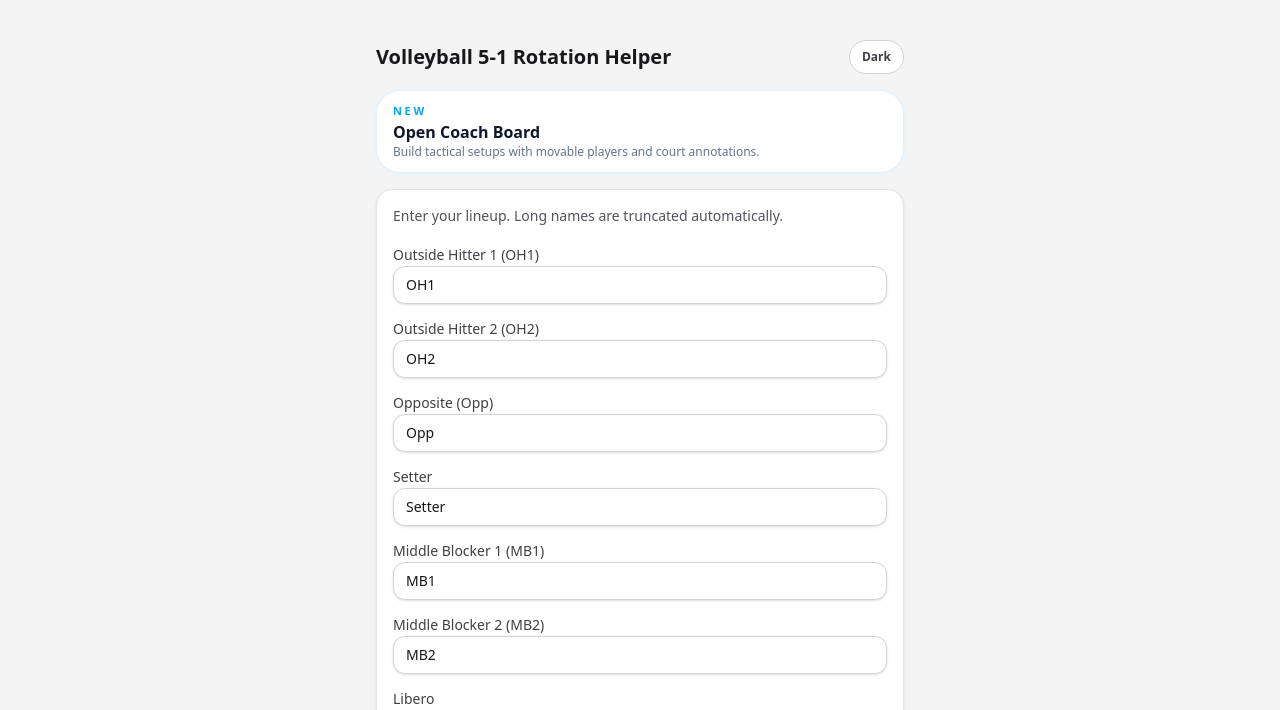
it: App › opens the coach board as a separate page
Step 1. Click the button "Open Coach Board" → (410, 110), box [376, 90, 904, 172]
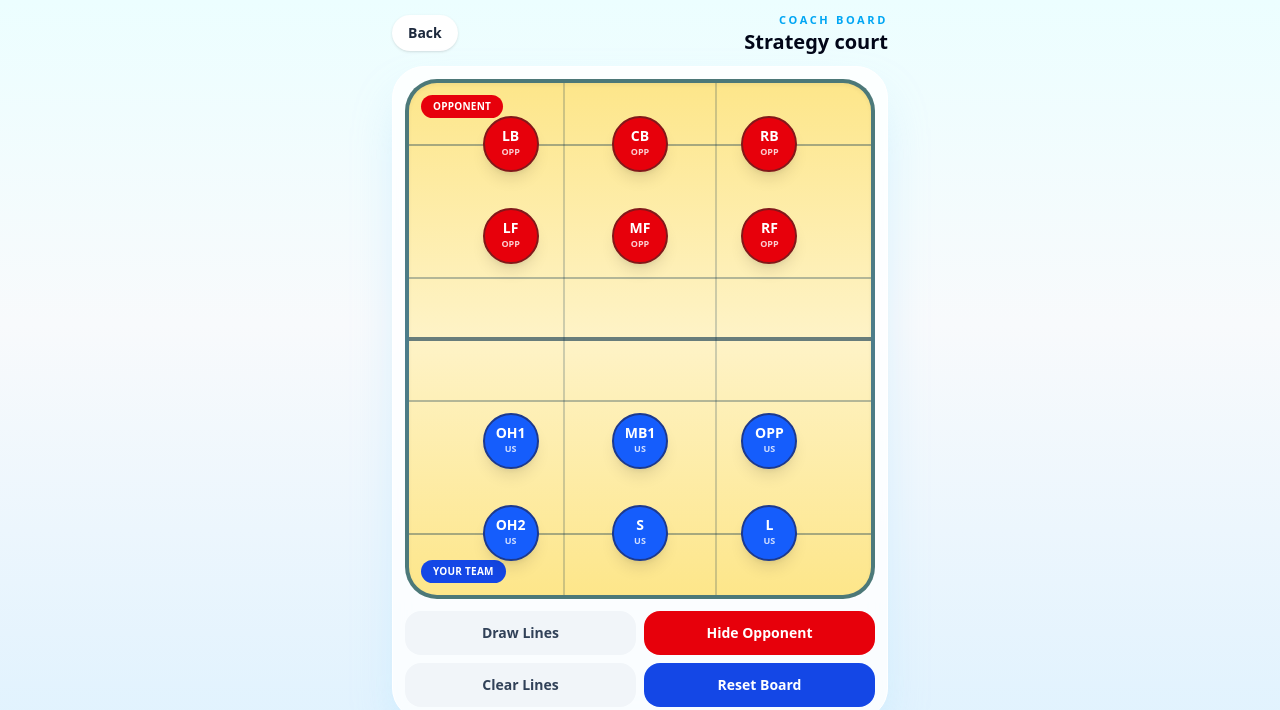
Check: the heading "Strategy court" is shown, box [744, 28, 888, 54]
Check: the element named "coach strategy volleyball court" is shown, box [405, 78, 875, 598]
Check: the button "Hide Opponent" is shown, box [644, 610, 875, 654]
Step 2. Click the button with aria-label "back to rotation helper" → (425, 33), box [392, 15, 458, 51]
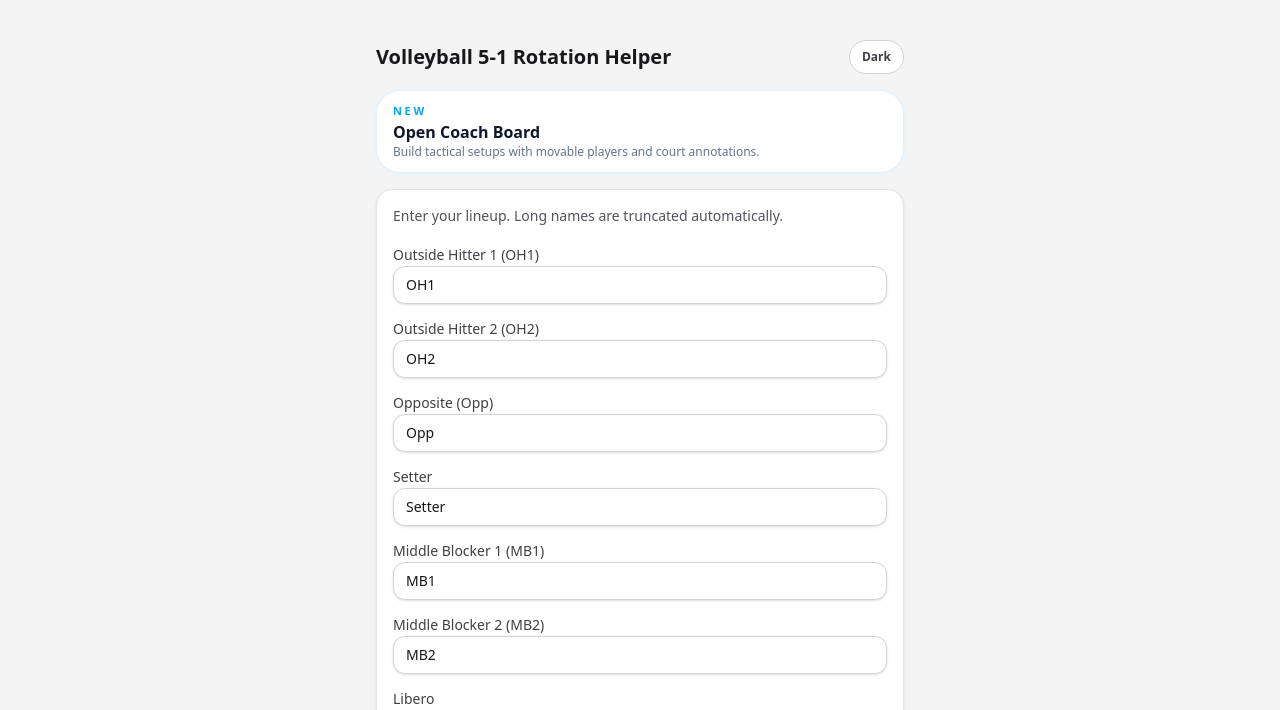
Check: the heading "Volleyball 5-1 Rotation Helper" is shown, box [376, 43, 671, 71]
